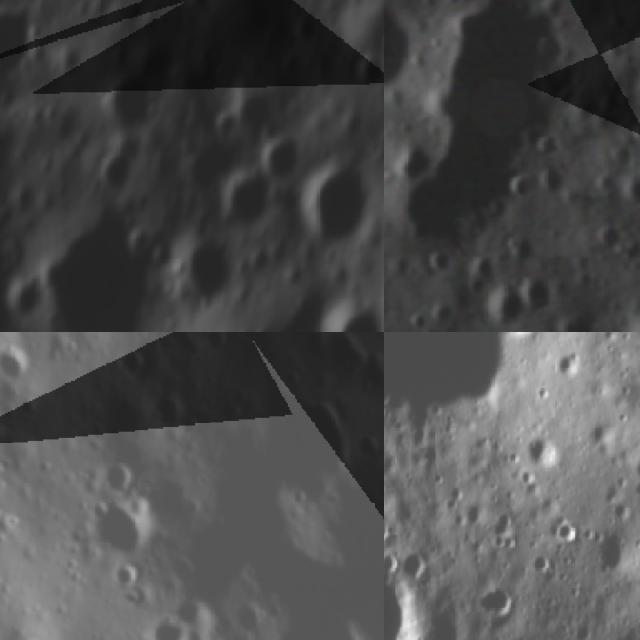crater: (38, 218, 161, 332), (244, 380, 370, 486), (299, 162, 376, 252), (171, 230, 245, 321), (384, 549, 452, 640), (83, 494, 163, 560), (222, 86, 290, 156), (384, 0, 422, 102), (101, 73, 163, 135), (180, 142, 240, 203), (468, 278, 534, 332), (266, 610, 380, 640), (215, 176, 271, 236), (0, 0, 40, 80), (96, 144, 150, 202), (510, 265, 562, 322), (492, 223, 546, 275), (385, 140, 438, 192), (253, 136, 302, 189), (0, 270, 44, 327), (458, 248, 504, 298), (99, 450, 143, 500), (529, 160, 574, 206), (148, 389, 191, 436), (550, 301, 615, 332), (342, 54, 384, 100), (312, 306, 384, 332), (529, 29, 568, 74), (531, 131, 571, 169), (418, 250, 458, 286), (112, 352, 156, 384), (586, 220, 625, 256), (0, 344, 27, 395), (611, 169, 640, 216), (423, 296, 460, 332), (149, 617, 200, 640), (504, 170, 536, 205), (534, 0, 571, 26), (400, 307, 434, 332), (626, 430, 640, 490), (624, 116, 640, 159)
